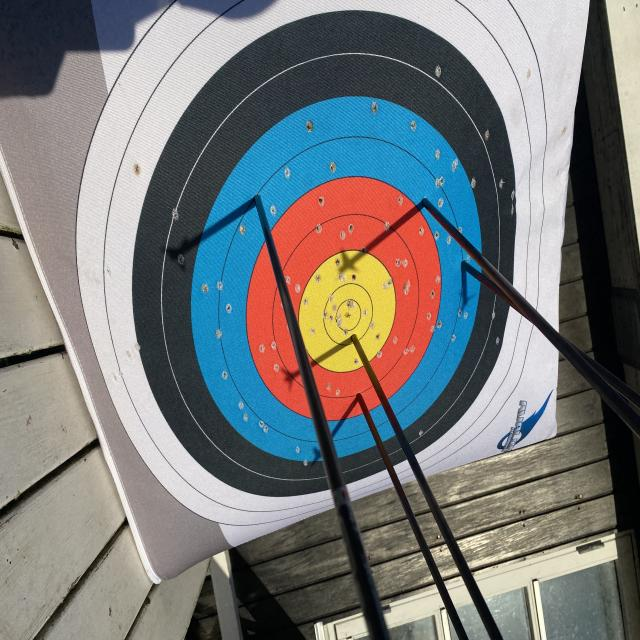Arrow_Blue: (239, 169, 276, 221), (452, 246, 476, 288), (410, 190, 436, 216)
Arrow_Red: (346, 379, 366, 415)
Arrow_Yellow: (344, 322, 374, 361)
